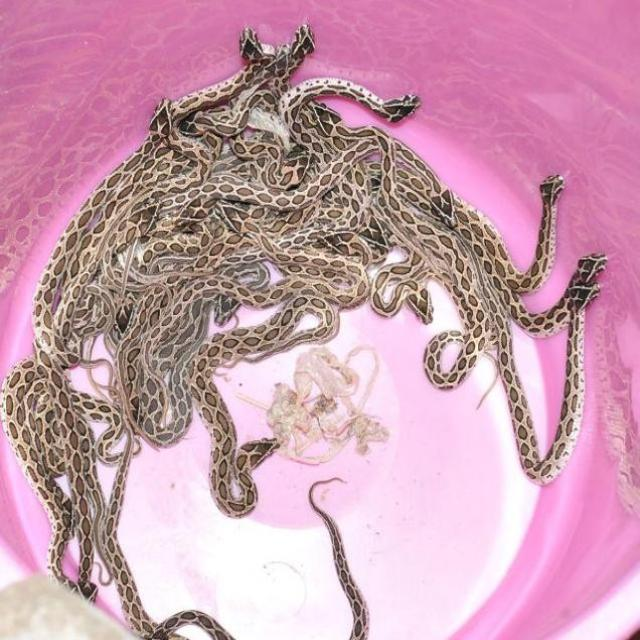Snake: (0, 20, 607, 639)
